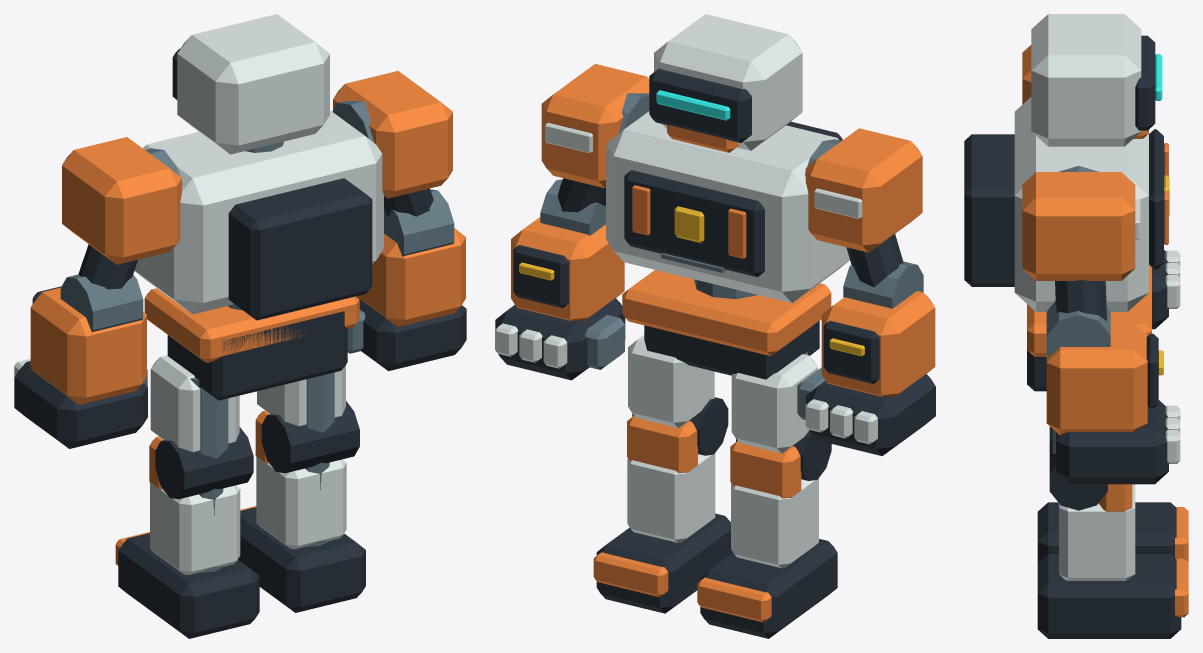
The model's file is MeleeRobot.fbx.
The picture shows the model from 3 angles, left to right: view 1: azimuth 30°, elevation 25°; view 2: azimuth 150°, elevation 25°; view 3: azimuth 270°, elevation 25°; orthographic projection. The views are drawn at different scales.
Parts seen in each view (by area): view 1: Torso_Chest, Head_Helmet, Torso_BackPack, UpperArm_L_Shoulder, Forearm_L_Gauntlet, UpperArm_R_Shoulder, Shin_L_Boot, Pelvis_Frame, Shin_R_Boot, Forearm_R_Gauntlet, Pelvis_Belt, Shin_R_Armor (+14 smaller); view 2: Torso_Chest, Head_Helmet, UpperArm_L_Shoulder, Pelvis_Belt, Torso_Bib, UpperArm_R_Shoulder, Forearm_L_Gauntlet, Shin_L_Boot, Shin_R_Armor, Forearm_R_Gauntlet, Shin_R_Boot, Shin_L_Armor (+35 smaller); view 3: Head_Helmet, UpperArm_R_Shoulder, Shin_R_Boot, Forearm_R_Gauntlet, Torso_Chest, Torso_BackPack, Forearm_R_Fist, Shin_R_Armor, Shin_L_Boot, Forearm_R_Elbow, Torso_Bib, Pelvis_Belt (+13 smaller).
Boxes of the visible parts, x1=… form: Torso_Chest: x1=134, y1=110, x2=383, y2=314; Head_Helmet: x1=177, y1=14, x2=329, y2=154; Torso_BackPack: x1=228, y1=178, x2=372, y2=320; UpperArm_L_Shoulder: x1=62, y1=137, x2=181, y2=264; Forearm_L_Gauntlet: x1=30, y1=287, x2=146, y2=404; UpperArm_R_Shoulder: x1=333, y1=71, x2=452, y2=198; Shin_L_Boot: x1=118, y1=533, x2=259, y2=638; Pelvis_Frame: x1=167, y1=311, x2=347, y2=400; Shin_R_Boot: x1=238, y1=507, x2=365, y2=612; Forearm_R_Gauntlet: x1=356, y1=228, x2=465, y2=326; Pelvis_Belt: x1=144, y1=288, x2=359, y2=362; Shin_R_Armor: x1=256, y1=456, x2=346, y2=549; Torso_Chest: x1=606, y1=111, x2=849, y2=303; Head_Helmet: x1=654, y1=14, x2=802, y2=150; UpperArm_L_Shoulder: x1=805, y1=128, x2=922, y2=252; Pelvis_Belt: x1=622, y1=270, x2=831, y2=355; Torso_Bib: x1=624, y1=170, x2=764, y2=277; UpperArm_R_Shoulder: x1=541, y1=64, x2=649, y2=188; Forearm_L_Gauntlet: x1=821, y1=291, x2=935, y2=396; Shin_L_Boot: x1=700, y1=539, x2=837, y2=638; Shin_R_Armor: x1=627, y1=453, x2=715, y2=542; Forearm_R_Gauntlet: x1=511, y1=217, x2=624, y2=320; Shin_R_Boot: x1=596, y1=513, x2=732, y2=613; Shin_L_Armor: x1=731, y1=478, x2=818, y2=567; Head_Helmet: x1=1031, y1=14, x2=1141, y2=146; UpperArm_R_Shoulder: x1=1022, y1=172, x2=1135, y2=280; Shin_R_Boot: x1=1037, y1=554, x2=1181, y2=638; Forearm_R_Gauntlet: x1=1046, y1=323, x2=1147, y2=435; Torso_Chest: x1=1014, y1=97, x2=1148, y2=311; Torso_BackPack: x1=964, y1=134, x2=1014, y2=286; Forearm_R_Fist: x1=1056, y1=400, x2=1168, y2=484; Shin_R_Armor: x1=1059, y1=484, x2=1135, y2=580; Shin_L_Boot: x1=1037, y1=502, x2=1176, y2=562; Forearm_R_Elbow: x1=1046, y1=301, x2=1110, y2=356; Torso_Bib: x1=1149, y1=129, x2=1163, y2=269; Pelvis_Belt: x1=1027, y1=265, x2=1151, y2=356.
Size of the model in its own units: 154 by 204 by 73.5.
